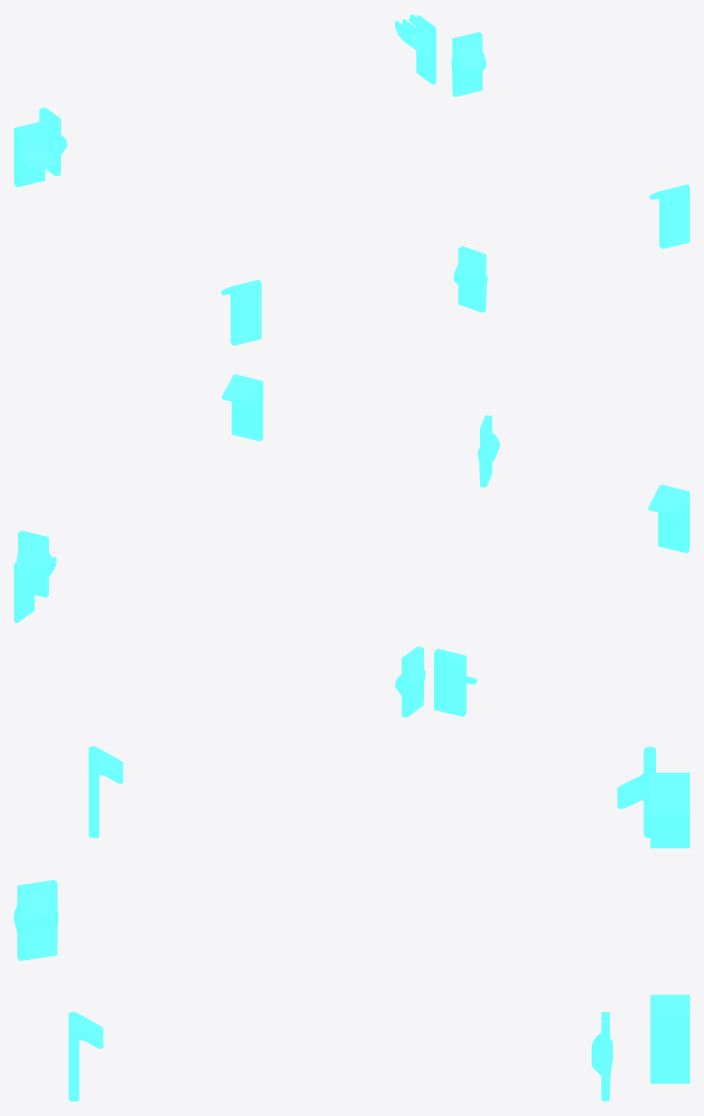
File: altar_runes.fbx
3 views of the same model, one above another, from view 1: azimuth 30°, elevation 25°; view 2: azimuth 150°, elevation 25°; view 3: azimuth 270°, elevation 25° (orthographic). The views are drawn at different scales.
Visible parts, largest first — view 1: Text.004, Text.005, Text.001, Text, Text.006, Text.002, Text.003; view 2: Text.005, Text, Text.004, Text.002, Text.003, Text.006, Text.001; view 3: Text.002, Text.006, Text.003, Text.005, Text, Text.004, Text.001.
Part boxes in pixels (x1,y1,x2,y2): Text.004: (14, 121, 55, 187); Text.005: (221, 280, 261, 345); Text.001: (451, 32, 486, 96); Text: (649, 184, 689, 248); Text.006: (453, 246, 487, 312); Text.002: (395, 14, 436, 84); Text.003: (39, 107, 67, 176); Text.005: (648, 484, 689, 553); Text: (222, 374, 263, 441); Text.004: (434, 648, 477, 716); Text.002: (14, 550, 56, 622); Text.003: (395, 646, 425, 717); Text.006: (477, 415, 499, 487); Text.001: (17, 530, 51, 597); Text.002: (650, 994, 689, 1083); Text.006: (14, 880, 58, 960); Text.003: (650, 772, 689, 848); Text.005: (88, 746, 123, 837); Text: (68, 1012, 103, 1101); Text.004: (617, 746, 655, 837); Text.001: (591, 1012, 612, 1101).
Bounding box in the file's own units: 203 × 26.26 × 207.
